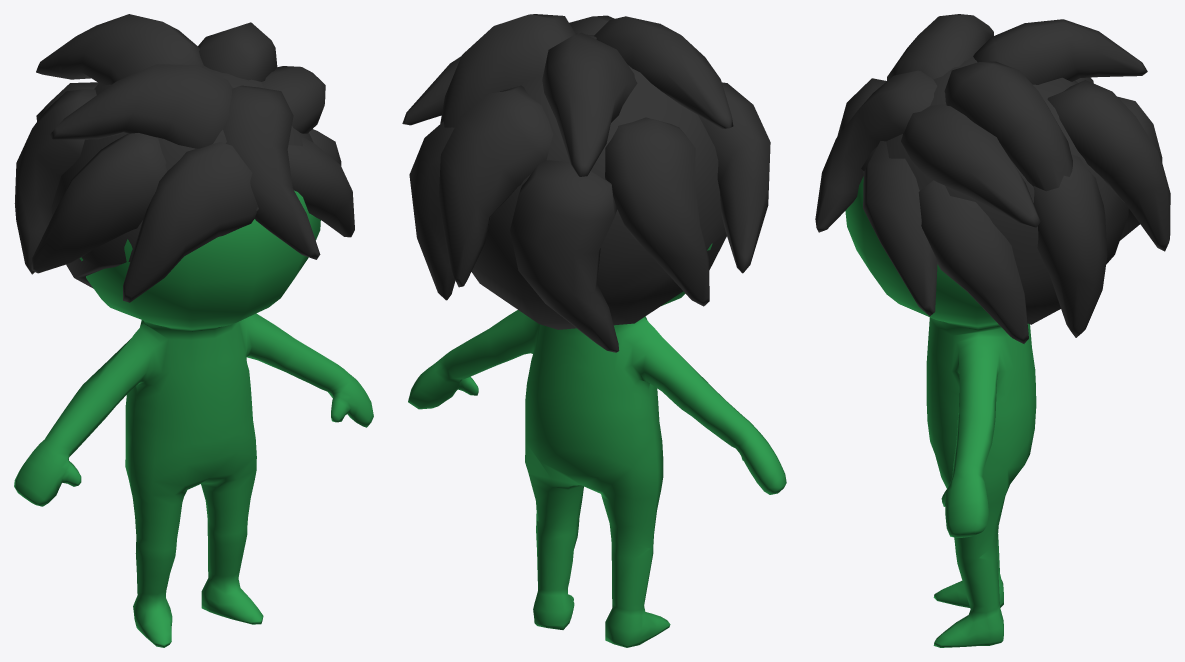
Rendered from CM_Zombie.fbx.
3 views of the same model, side by side, from view 1: azimuth 30°, elevation 25°; view 2: azimuth 150°, elevation 25°; view 3: azimuth 270°, elevation 25° (orthographic). The views are drawn at different scales.
Parts seen in each view (by area): view 1: CM_Zombie; view 2: CM_Zombie; view 3: CM_Zombie.
Boxes of the visible parts, x1,y1,x2,y2 form: CM_Zombie: (14,14,373,647); CM_Zombie: (402,14,786,647); CM_Zombie: (815,14,1170,647).
Bounding box in the file's own units: 241 × 380 × 207.
